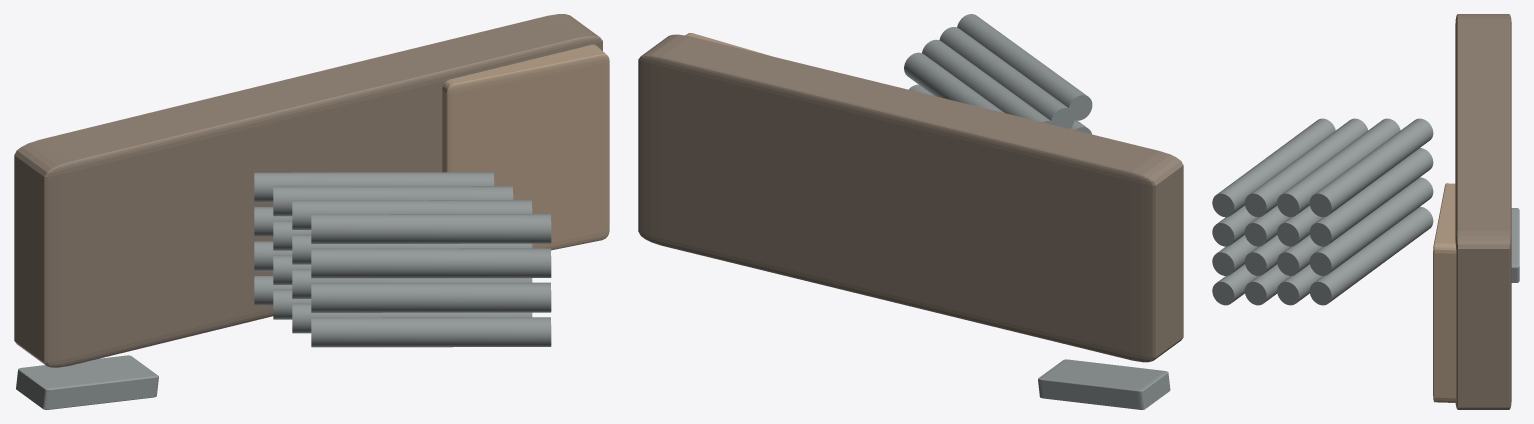
File: d-u17-dominion-rocket-artillery-lod2.glb
3 renders of one model, left to right at view 1: azimuth 30°, elevation 25°; view 2: azimuth 150°, elevation 25°; view 3: azimuth 270°, elevation 25°, orthographic. The views are drawn at different scales.
Parts seen in each view (by area): view 1: chassis_lower, chassis_nose, rocket_tube_15, rocket_tube_13, rocket_tube_14, rocket_tube_16, rocket_jack_-1, rocket_tube_4, rocket_tube_8, rocket_tube_12, rocket_tube_9, rocket_tube_11 (+7 smaller); view 2: chassis_lower, rocket_jack_-1, rocket_tube_16, rocket_tube_12, rocket_tube_8, rocket_tube_4; view 3: chassis_lower, chassis_nose, rocket_tube_4, rocket_tube_1, rocket_tube_2, rocket_tube_3, rocket_tube_16, rocket_tube_8, rocket_tube_12, rocket_tube_9, rocket_tube_7, rocket_tube_6 (+7 smaller).
Boxes of the visible parts, x1,y1,x2,y2 form: chassis_lower: (14, 14, 602, 367); chassis_nose: (442, 44, 609, 250); rocket_tube_15: (311, 248, 551, 278); rocket_tube_13: (311, 317, 551, 347); rocket_tube_14: (311, 282, 551, 312); rocket_tube_16: (311, 214, 551, 243); rocket_jack_-1: (16, 355, 158, 409); rocket_tube_4: (254, 172, 494, 202); rocket_tube_8: (273, 186, 513, 216); rocket_tube_12: (292, 200, 532, 229); rocket_tube_9: (292, 303, 532, 333); rocket_tube_11: (292, 234, 532, 264); chassis_lower: (638, 34, 1183, 362); rocket_jack_-1: (1038, 359, 1170, 409); rocket_tube_16: (957, 14, 1092, 120); rocket_tube_12: (939, 27, 1074, 128); rocket_tube_8: (922, 39, 1055, 125); rocket_tube_4: (904, 52, 1004, 112); chassis_lower: (1455, 14, 1511, 409); chassis_nose: (1433, 183, 1456, 402); rocket_tube_4: (1309, 118, 1433, 217); rocket_tube_1: (1309, 206, 1433, 305); rocket_tube_2: (1309, 177, 1433, 275); rocket_tube_3: (1309, 148, 1433, 246); rocket_tube_16: (1212, 118, 1335, 217); rocket_tube_8: (1277, 118, 1400, 217); rocket_tube_12: (1244, 118, 1367, 217); rocket_tube_9: (1244, 264, 1289, 305); rocket_tube_7: (1277, 205, 1322, 246); rocket_tube_6: (1277, 235, 1322, 275).
Size of what is drawn, in the model's own units: 8.52 by 3.84 by 4.76.
